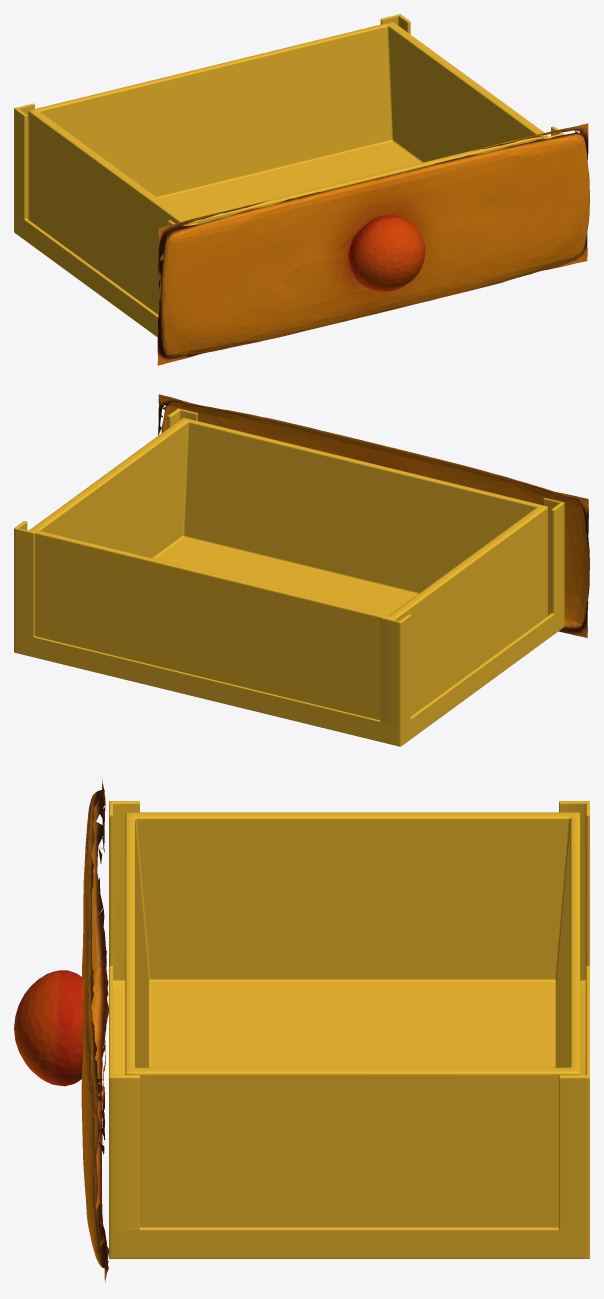
File: drawer_bottom.glb
3 renders of one model, top to bottom at view 1: azimuth 30°, elevation 25°; view 2: azimuth 150°, elevation 25°; view 3: azimuth 270°, elevation 25°, orthographic. The views are drawn at different scales.
Visible parts, largest first — view 1: prefab_drawer_body_3, source_front_cap_0; view 2: prefab_drawer_body_3, source_front_cap_0; view 3: prefab_drawer_body_3, source_front_cap_0.
Boxes of the visible parts, x1,y1,x2,y2 form: prefab_drawer_body_3: [14, 14, 564, 337]; source_front_cap_0: [157, 123, 589, 365]; prefab_drawer_body_3: [14, 408, 564, 746]; source_front_cap_0: [158, 394, 589, 637]; prefab_drawer_body_3: [109, 801, 589, 1258]; source_front_cap_0: [14, 779, 108, 1282].
Size of the model in its own units: 0.3959 by 0.1218 by 0.3137.
Materials: 2 (1 with a texture image).
